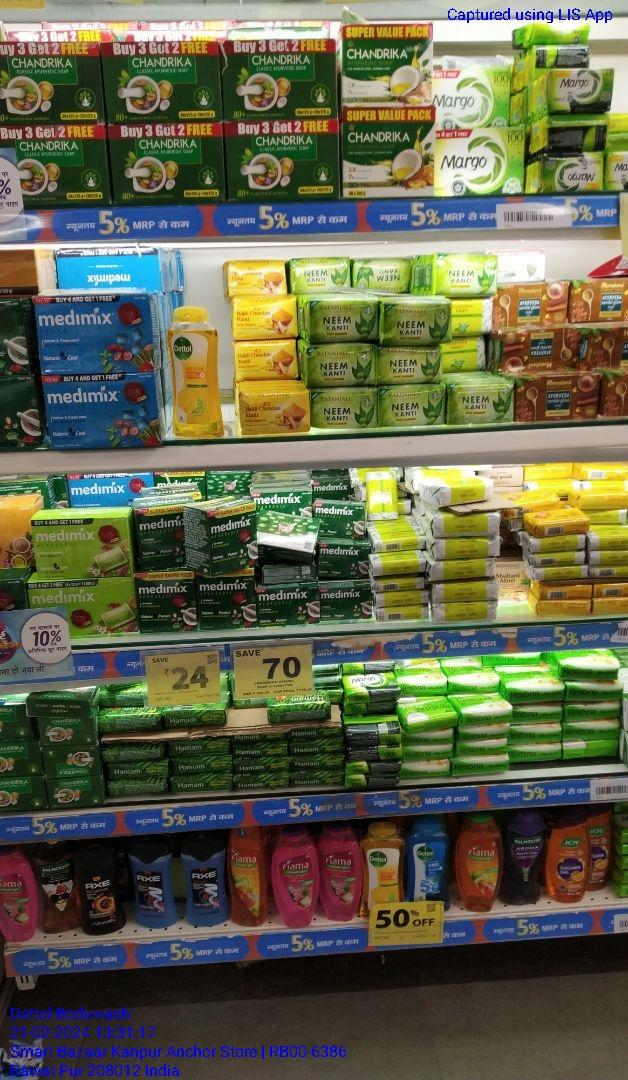Dettol_Bodywash_Cool: (407, 816, 450, 900)
Dettol_Bodywash_Refresh: (362, 820, 406, 905)
Fiama_Shower_Gel_Patchouli_and_Macadamia_250ML: (270, 827, 320, 929), (320, 825, 362, 921)
Fiama_Shower_Gel_Peach_and_Avocado_250ML: (456, 814, 504, 912)
Joy_Shower_Gel_Mandarin_and_Lemongrass_250ML: (545, 808, 590, 904)
Palmolive_Aroma_Relax_250ML: (505, 809, 545, 905)
